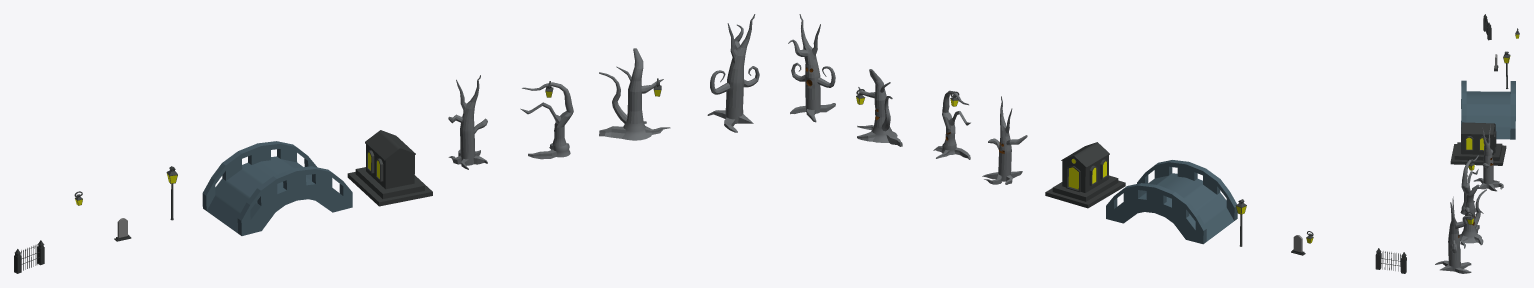
File: GraveYardSet.fbx
The picture shows the model from 3 angles, left to right: view 1: azimuth 30°, elevation 25°; view 2: azimuth 150°, elevation 25°; view 3: azimuth 270°, elevation 25°; orthographic projection. The views are drawn at different scales.
Visible parts, largest first — view 1: TMP_Bridge, TMP_CRYPT, TMP_Tree_02, TMP_Tree_01, TMP_Tree_04, TMP_Tree_03, TMP_Fence; view 2: TMP_Bridge, TMP_CRYPT, TMP_Tree_01, TMP_Tree_02, TMP_Tree_04, TMP_Tree_03, TMP_Fence; view 3: TMP_Bridge, TMP_CRYPT, TMP_Tree_01, TMP_Tree_02, TMP_Tree_04, TMP_Tree_03, TMP_Fence, TMP_StreetLight.
Boxes of the visible parts, x1=… form: TMP_Bridge: x1=202, y1=141, x2=352, y2=235; TMP_CRYPT: x1=347, y1=130, x2=432, y2=206; TMP_Tree_02: x1=599, y1=48, x2=670, y2=140; TMP_Tree_01: x1=707, y1=14, x2=759, y2=132; TMP_Tree_04: x1=448, y1=75, x2=487, y2=169; TMP_Tree_03: x1=520, y1=81, x2=573, y2=159; TMP_Fence: x1=14, y1=240, x2=44, y2=273; TMP_Bridge: x1=1106, y1=160, x2=1237, y2=244; TMP_CRYPT: x1=1045, y1=142, x2=1125, y2=208; TMP_Tree_01: x1=788, y1=14, x2=835, y2=122; TMP_Tree_02: x1=856, y1=69, x2=902, y2=146; TMP_Tree_04: x1=982, y1=96, x2=1027, y2=184; TMP_Tree_03: x1=933, y1=90, x2=970, y2=159; TMP_Fence: x1=1375, y1=248, x2=1406, y2=273; TMP_Bridge: x1=1461, y1=80, x2=1515, y2=139; TMP_CRYPT: x1=1450, y1=122, x2=1506, y2=165; TMP_Tree_01: x1=1435, y1=196, x2=1472, y2=273; TMP_Tree_02: x1=1459, y1=184, x2=1486, y2=248; TMP_Tree_04: x1=1473, y1=124, x2=1503, y2=191; TMP_Tree_03: x1=1460, y1=155, x2=1483, y2=215; TMP_Fence: x1=1483, y1=14, x2=1491, y2=40; TMP_StreetLight: x1=1503, y1=51, x2=1510, y2=88.
Bounding box in the file's own units: 710 × 98.64 × 103.
